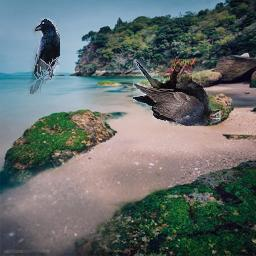Crow: (133, 60, 221, 127), (28, 18, 60, 94)
